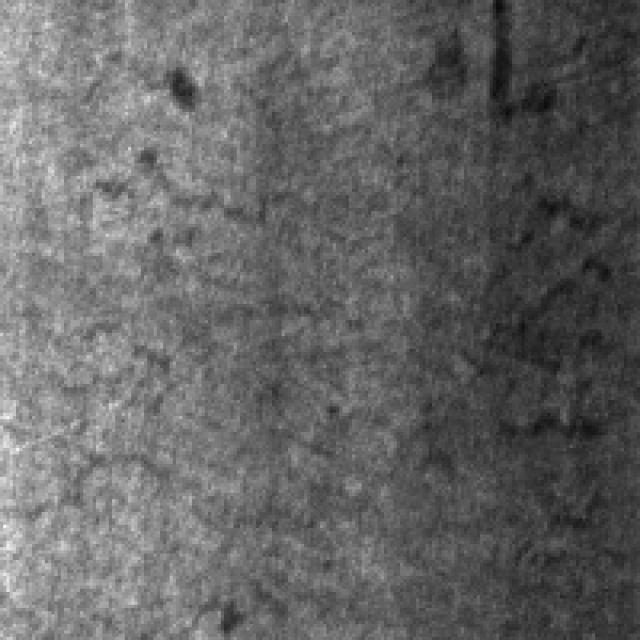crazing: (3, 135, 333, 502), (413, 163, 605, 531)
